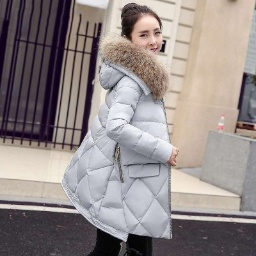face: (119, 2, 166, 59)
